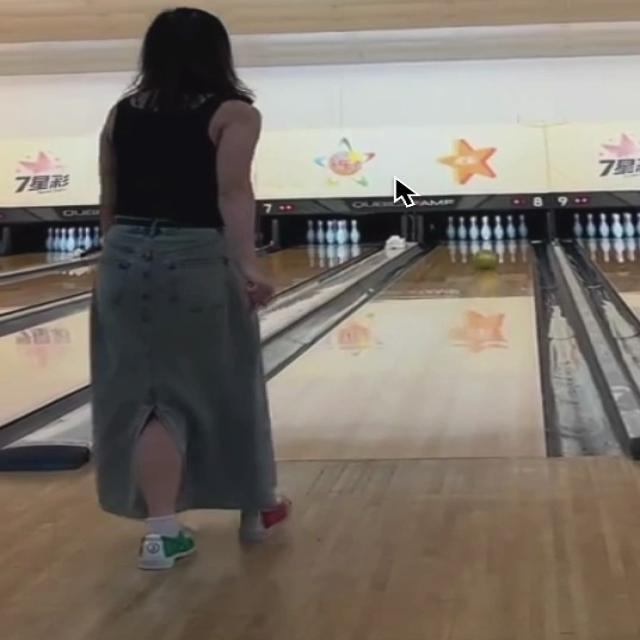alley: (270, 241, 544, 460)
balls: (473, 250, 498, 270)
bottle: (448, 214, 525, 241)
